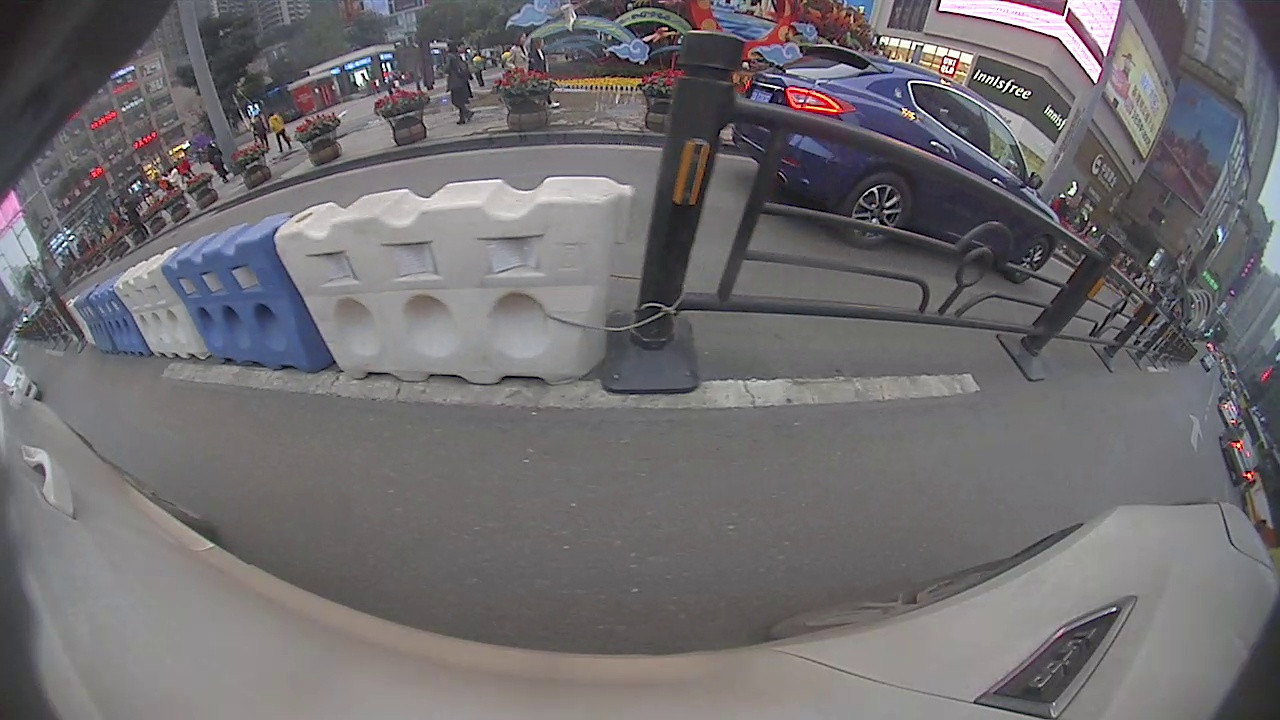car: (731, 44, 1064, 287), (1219, 428, 1257, 484)
front: (1008, 237, 1055, 284)
person: (443, 47, 478, 130)
rear: (843, 175, 909, 249)
